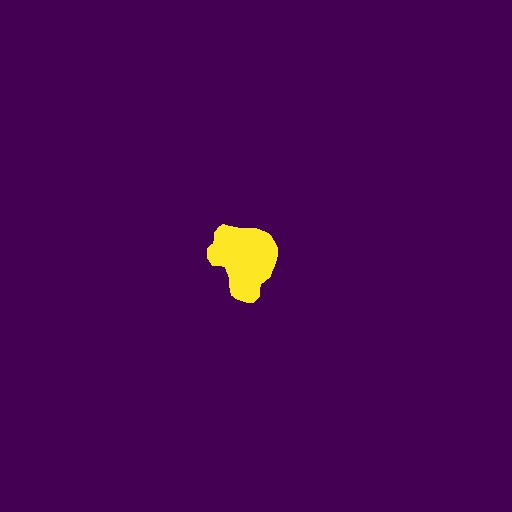Menigiomia_tumour: (207, 224, 278, 303)
